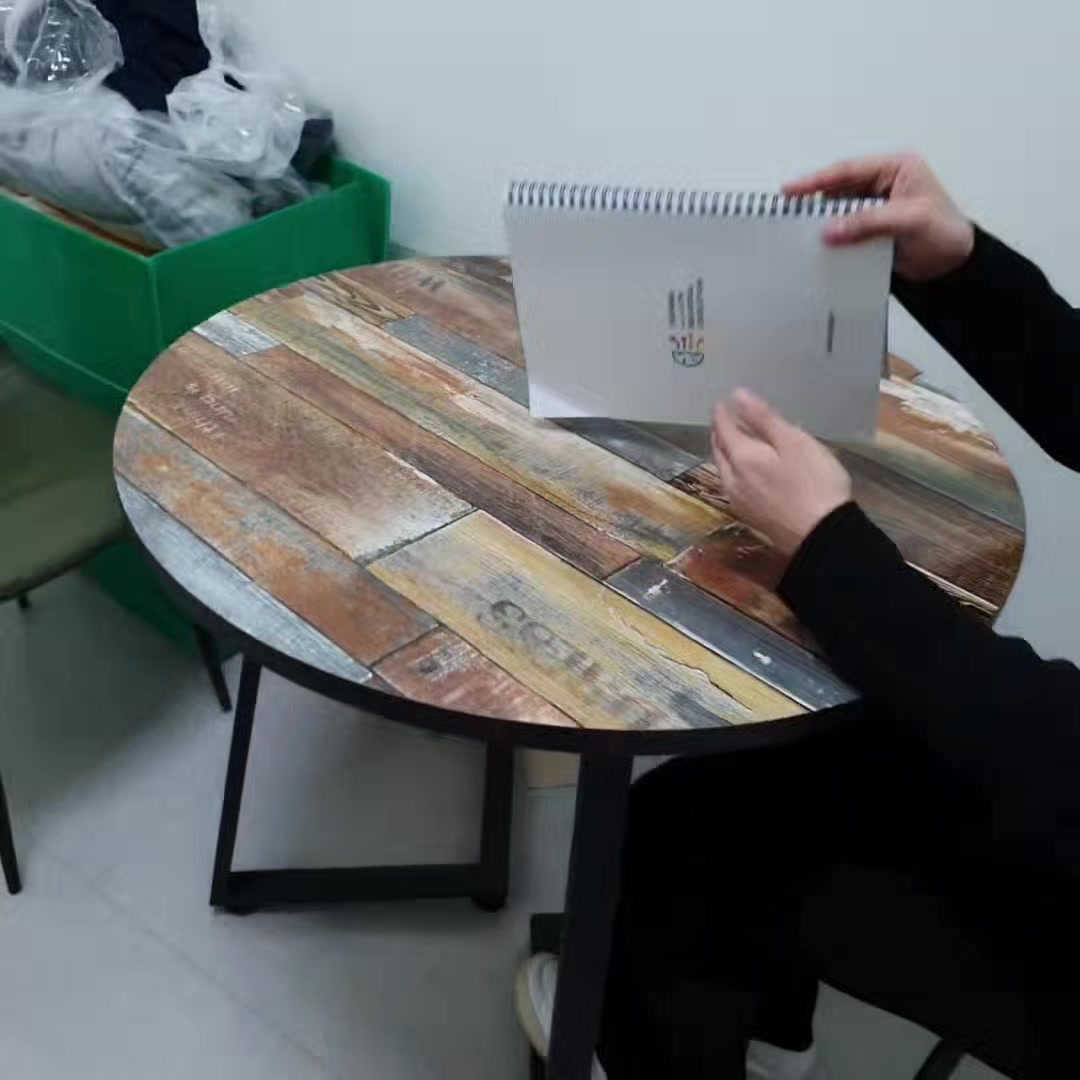book: (501, 174, 899, 456)
